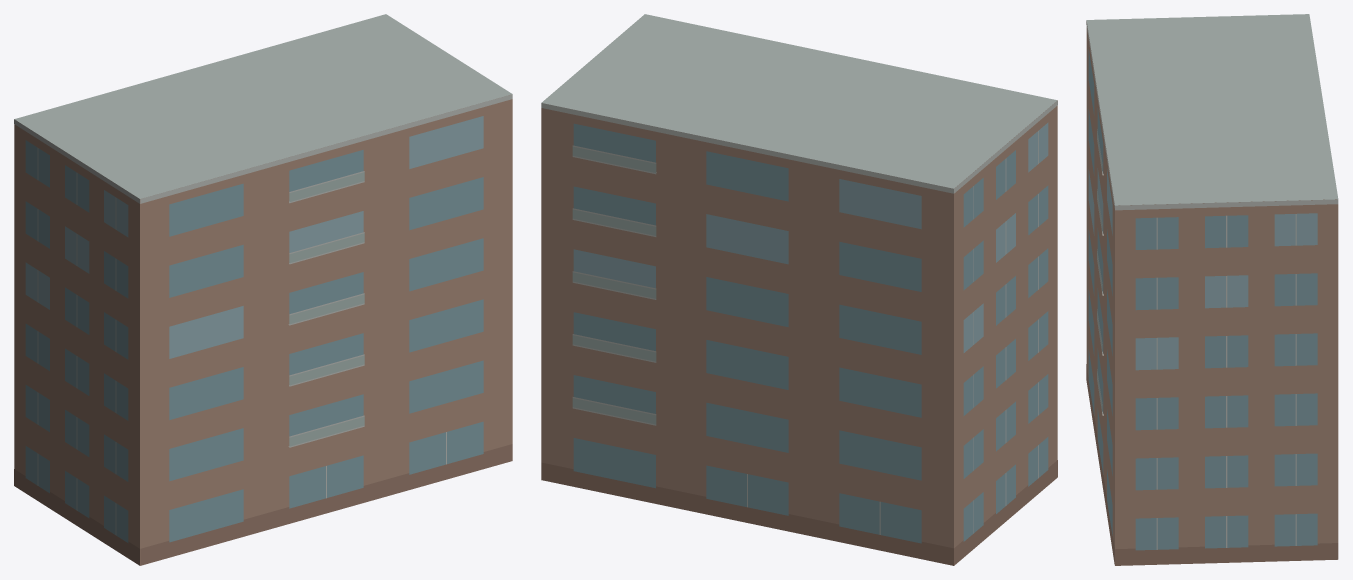
Rendered from survey-upis-32884993.glb.
3 views of the same model, side by side, from view 1: azimuth 30°, elevation 25°; view 2: azimuth 150°, elevation 25°; view 3: azimuth 270°, elevation 25° (orthographic). The views are drawn at different scales.
Visible parts, largest first — view 1: survey-upis-32884993.tmp; view 2: survey-upis-32884993.tmp; view 3: survey-upis-32884993.tmp.
Part boxes in pixels (box(x1,y1,x2,y2)): survey-upis-32884993.tmp: box(14, 14, 512, 565); survey-upis-32884993.tmp: box(541, 14, 1057, 565); survey-upis-32884993.tmp: box(1086, 14, 1338, 565).
Size of the model in its own units: 20.87 by 18.3 by 11.6.
